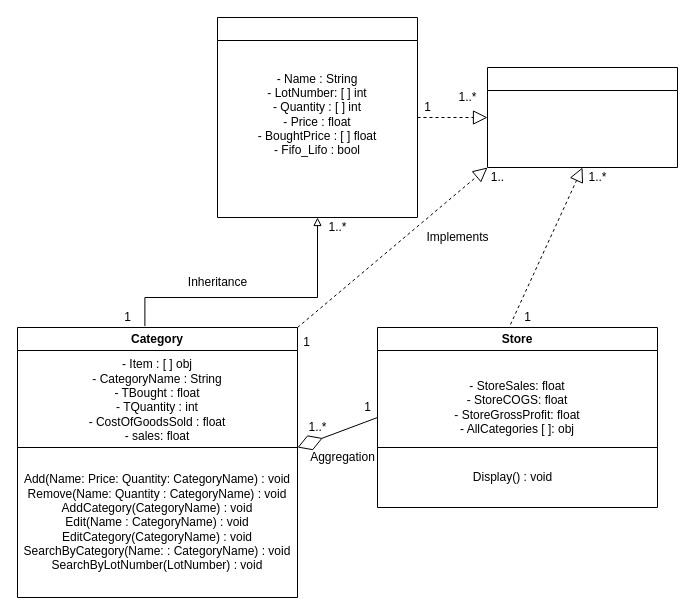
The diagram is 695 pixels wide and 615 high, and some of its shapes have lost their labels. The shapes that lost their labels are listed below. From the top down, each one's box as (x1, y1, x2, y2) in pixels, then its label:
(216, 16, 418, 218): Item
(486, 66, 678, 168): System.Collections.ArrayList
